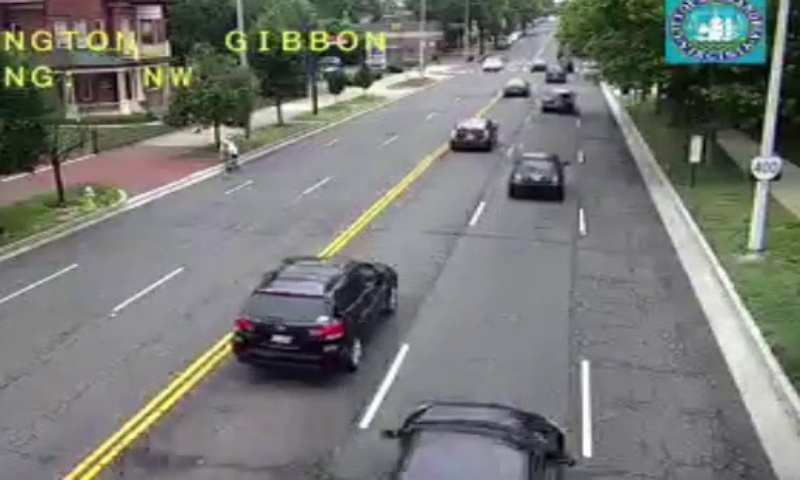car: (233, 259, 400, 370), (508, 153, 563, 190), (449, 120, 493, 149), (540, 87, 572, 113)
